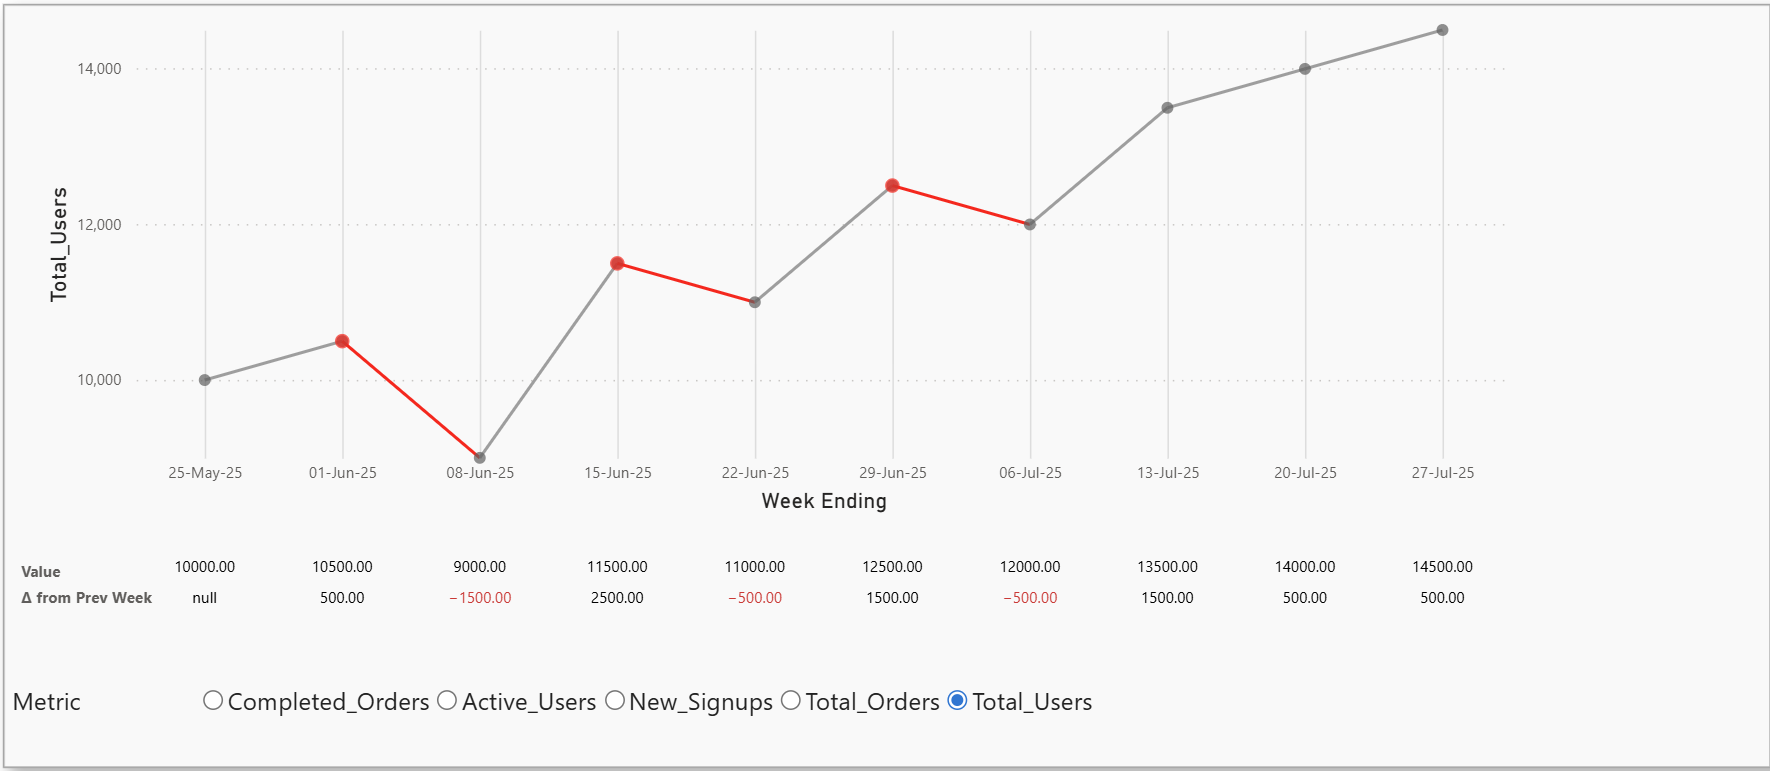

The dashboard page shown, as its layout file describes it:
{"tool":"powerbi","page":{"name":"Page 1","canvas":[1280,720],"ordinal":0},"visuals":[{"type":"deneb7E15AEF80B9E4D4F8E12924291ECE89A","fields":{"dataset":["Table.Week Ending","Table.Completed_Orders","Table.Active_Users","Table.New_Signups","Table.Total_Orders","Table.Total_Users"]},"box":[246.1,123,1005.8,500],"z":0},{"type":"slicer","fields":{"Values":["Table.Week Ending"]},"box":[973.7,0,278.1,91],"z":1}]}

Visuals, with their boxes on the page's 1280x720 design canvas (x1, y1, x2, y2). These are canvas units, not pixel positions in the 1770x771 screenshot, which may show the page scaled, cropped or inside an application window:
deneb7E15AEF80B9E4D4F8E12924291ECE89A - Table.Week Ending x Table.Completed_Orders: 246 123 1252 623
slicer - Table.Week Ending: 974 0 1252 91
